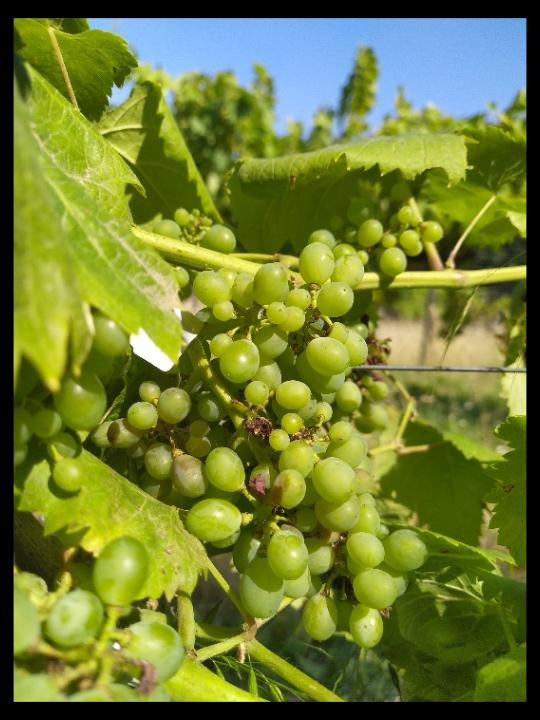grape: (92, 239, 430, 657), (330, 173, 448, 276)
